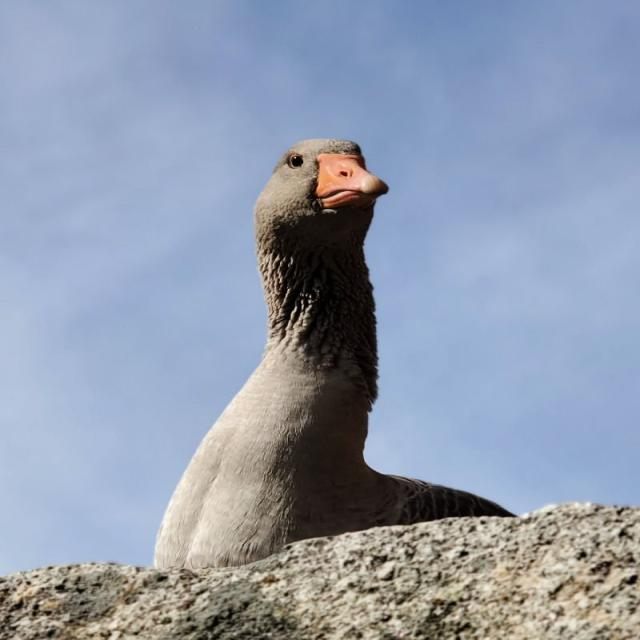Goose: (157, 135, 523, 562)
